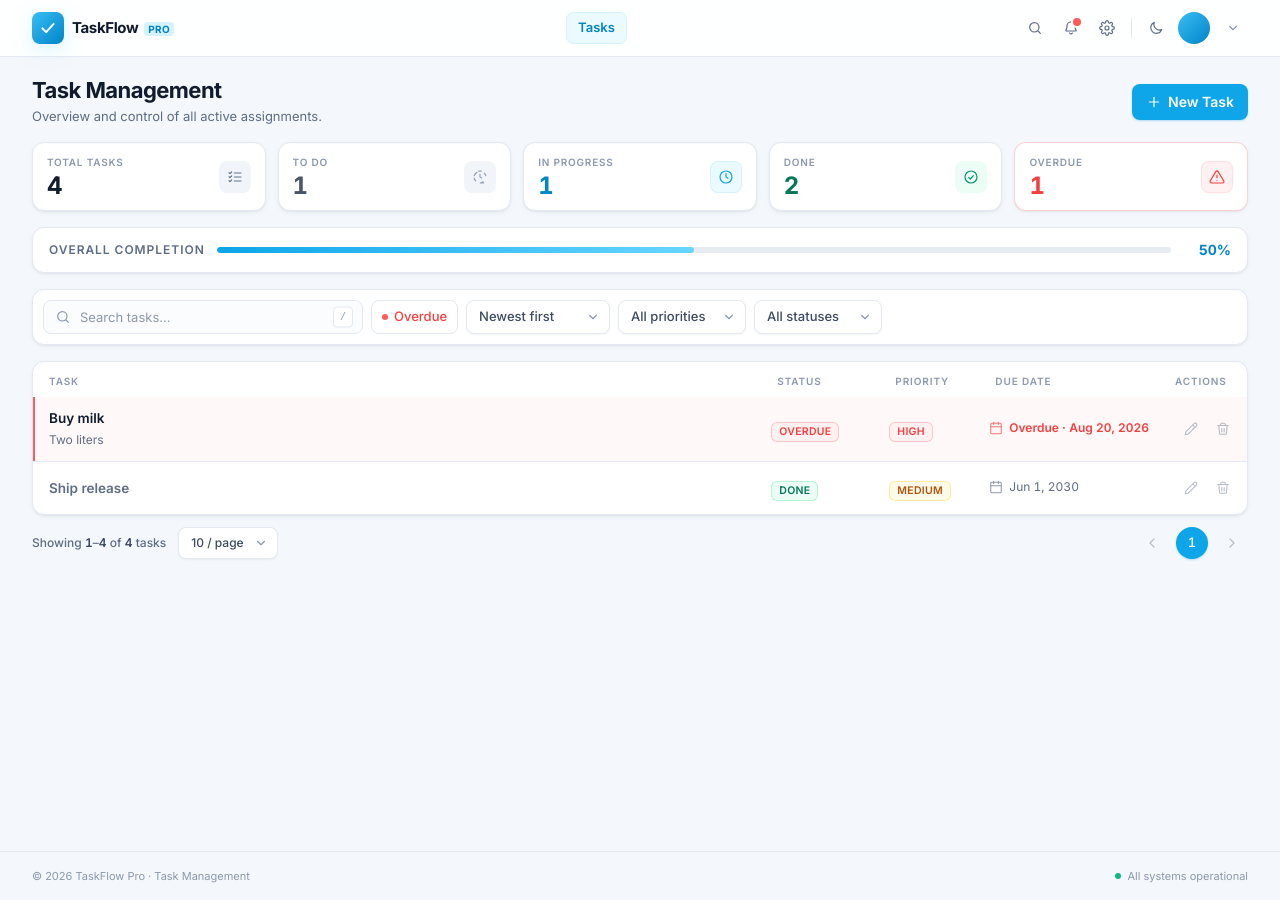
DashboardPage - mutations and shortcuts › deletes a task only after confirmation
Check: the heading "Buy milk" is shown, box [49,410,104,426]
Step 1. Click the button named "Delete task: Buy milk" → (1223, 429), box [1209,415,1237,443]
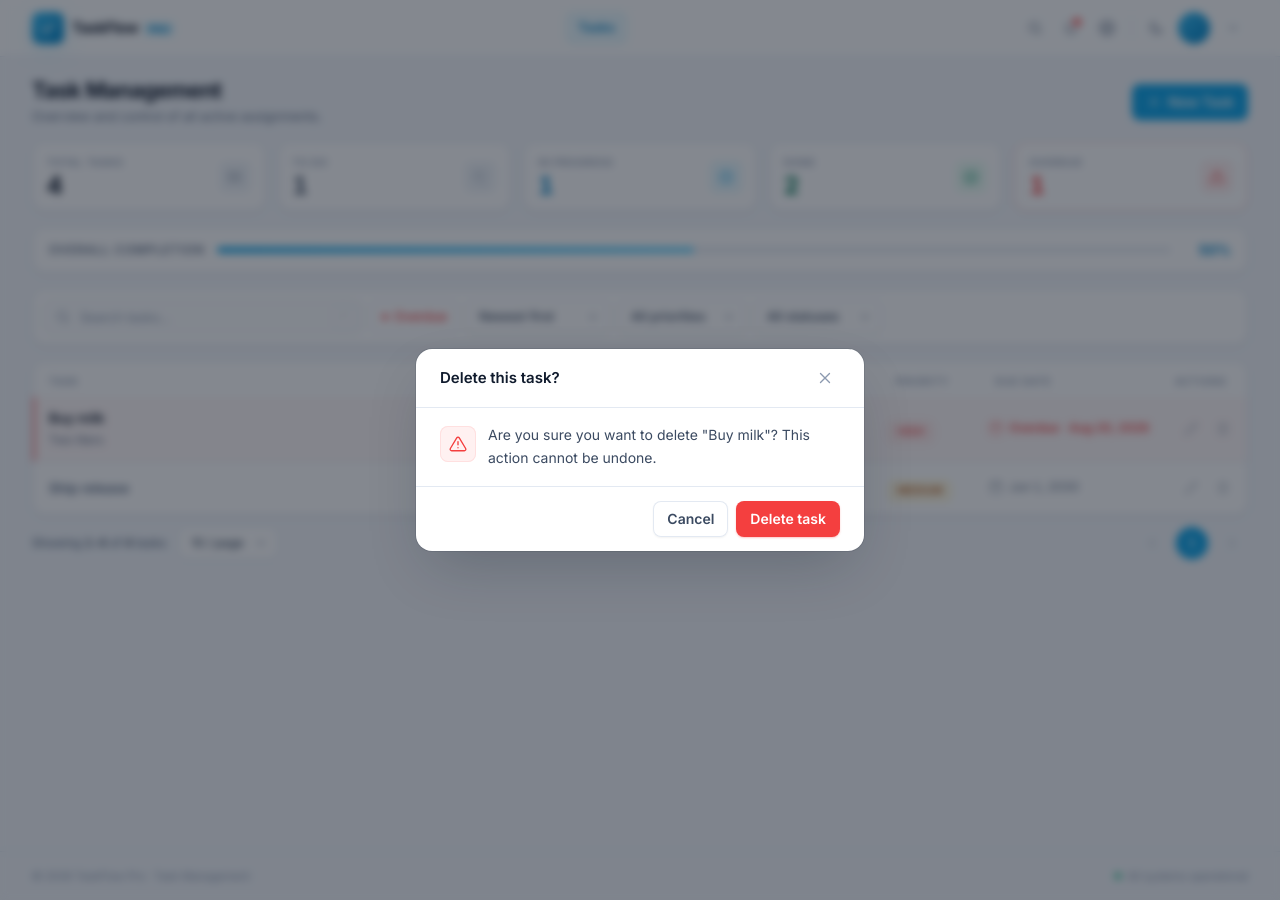
Check: the dialog "Delete this task?" is shown, box [416,349,864,551]
Step 2. Click the button "Delete task" → (788, 519), box [736,501,840,537]
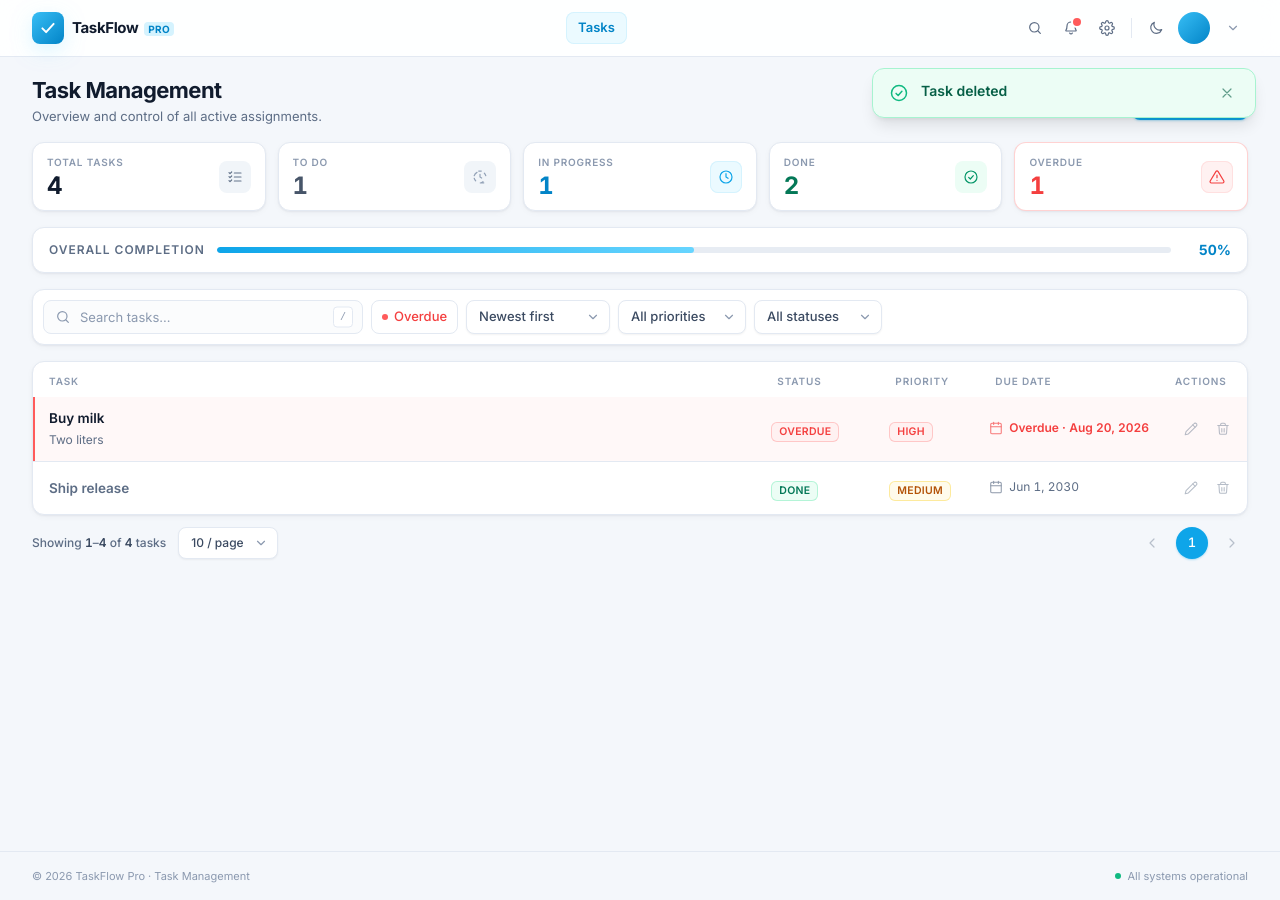
Check: the text "Task deleted" is shown, box [921,82,1007,99]
